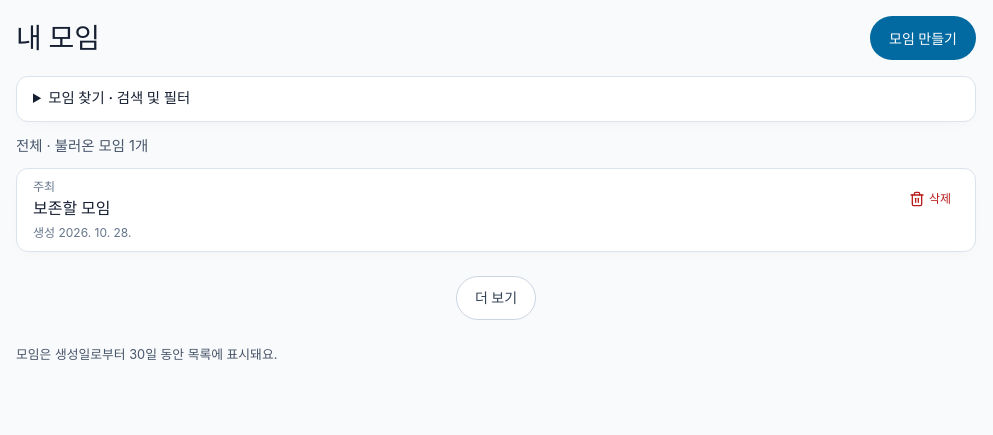
account-based room history › preserves loaded rows on a failed next page and retries that cursor only after an explicit action
The image size is (993, 435).
Expected: the link "주최 보존할 모임" is shown, [33,179,110,218]
Click the button "더 보기" at (496, 298), box [456,276,536,320]
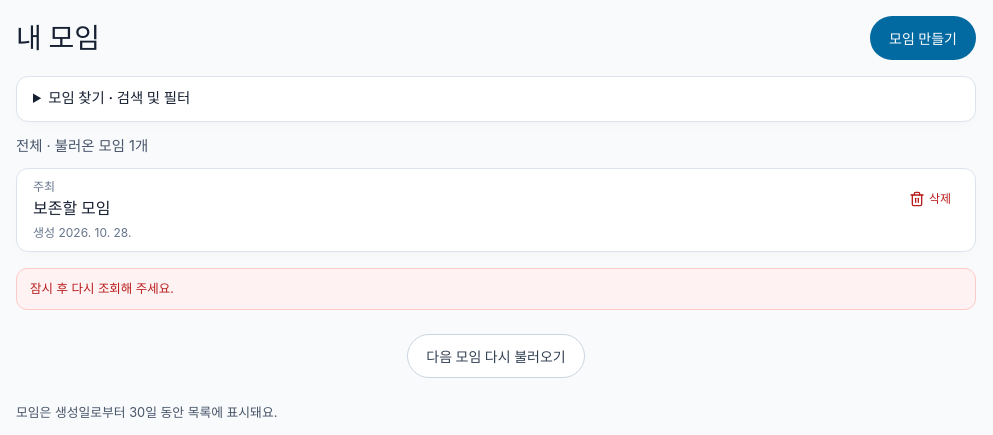
Expected: the link "주최 보존할 모임" is shown, [33,179,110,218]
Now the message "잠시 후 다시 조회해 주세요." is shown, box [16,268,976,310]
Click the button "다음 모임 다시 불러오기" at (496, 356), box [407,334,585,378]
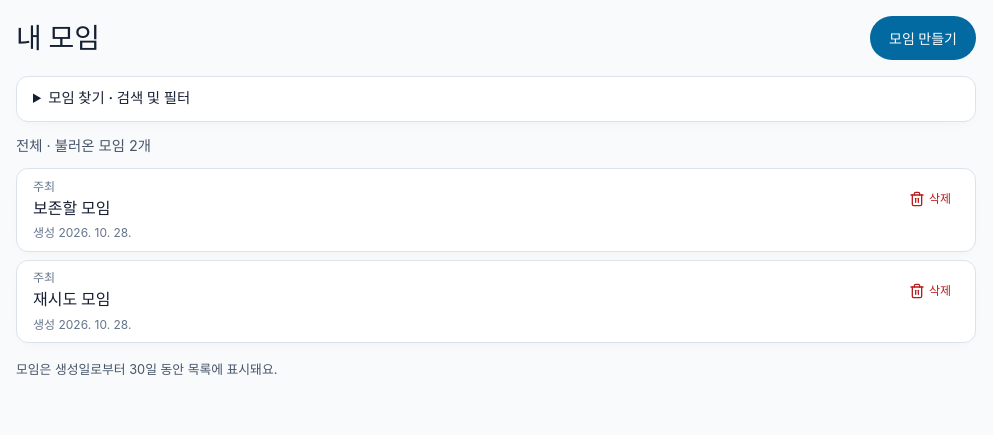
Now the link "주최 재시도 모임" is shown, box [33,270,110,309]
